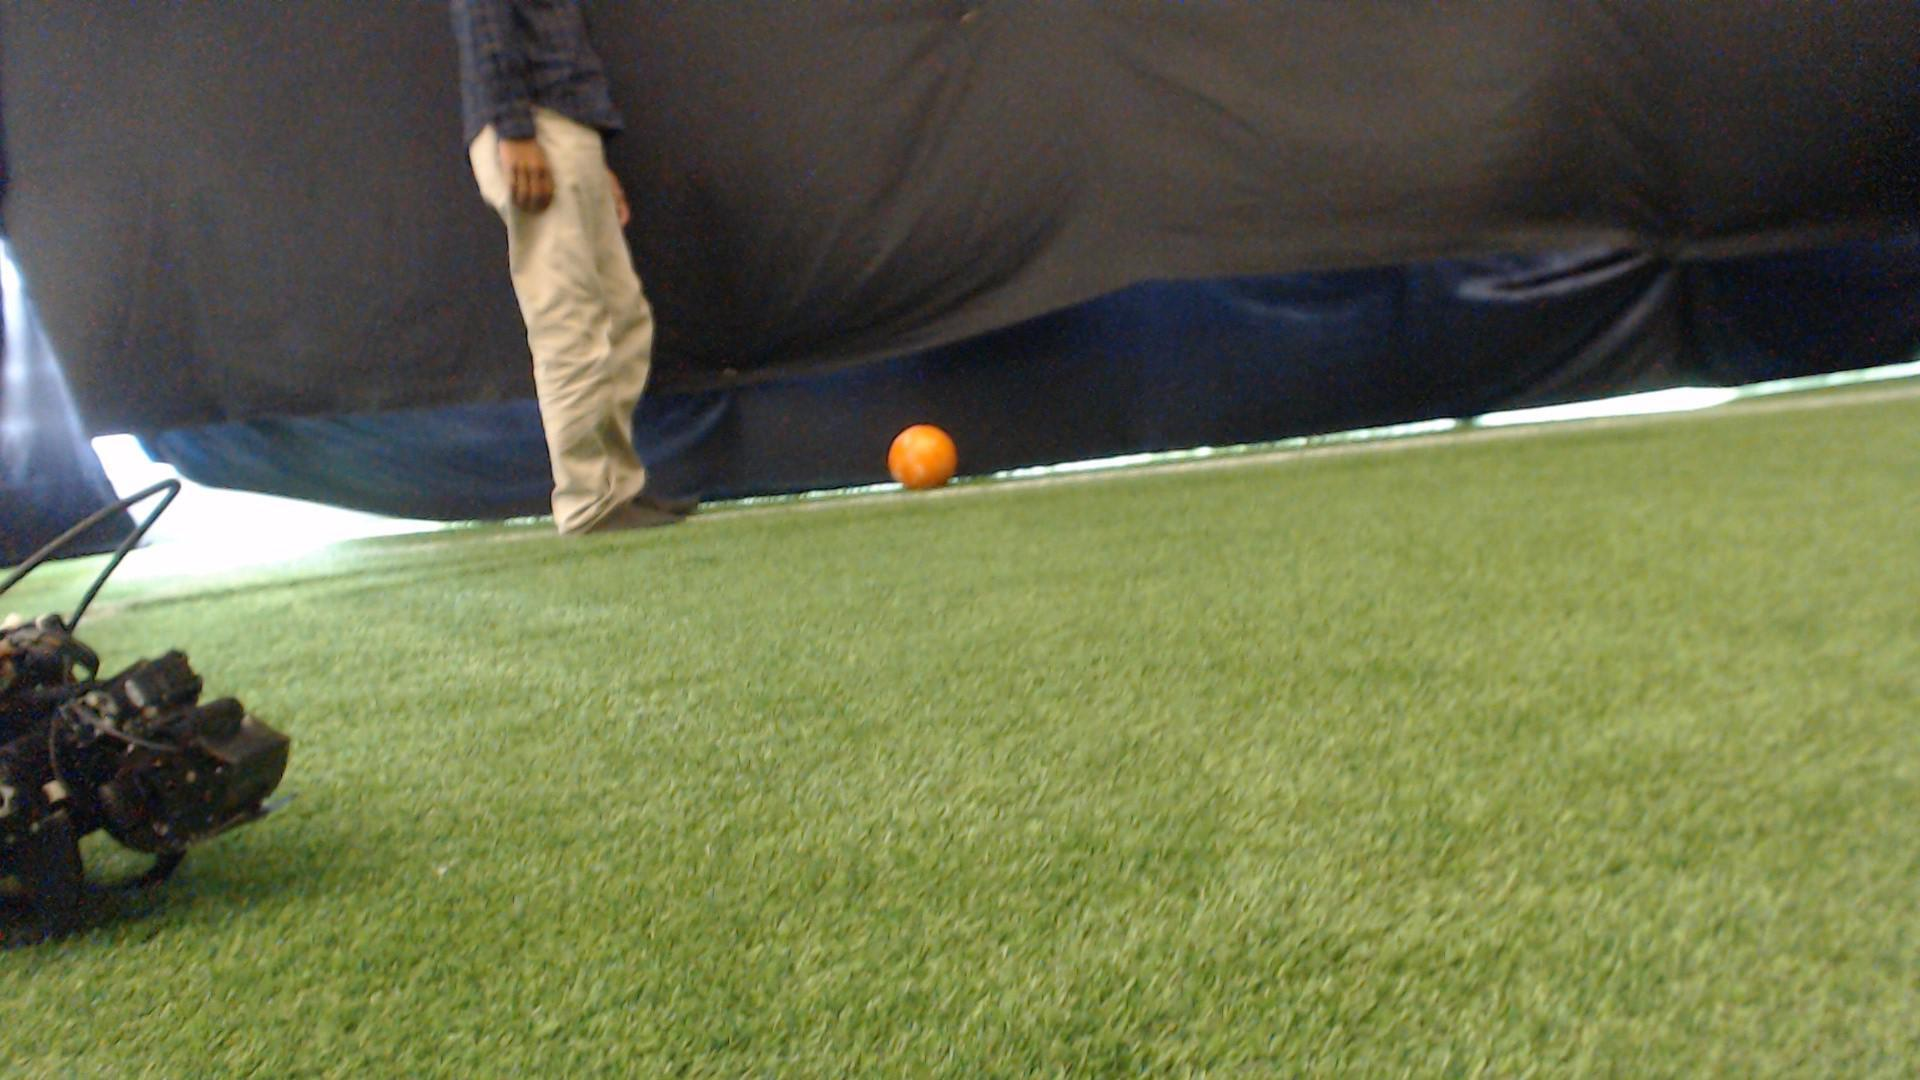bola: (872, 415, 976, 517)
